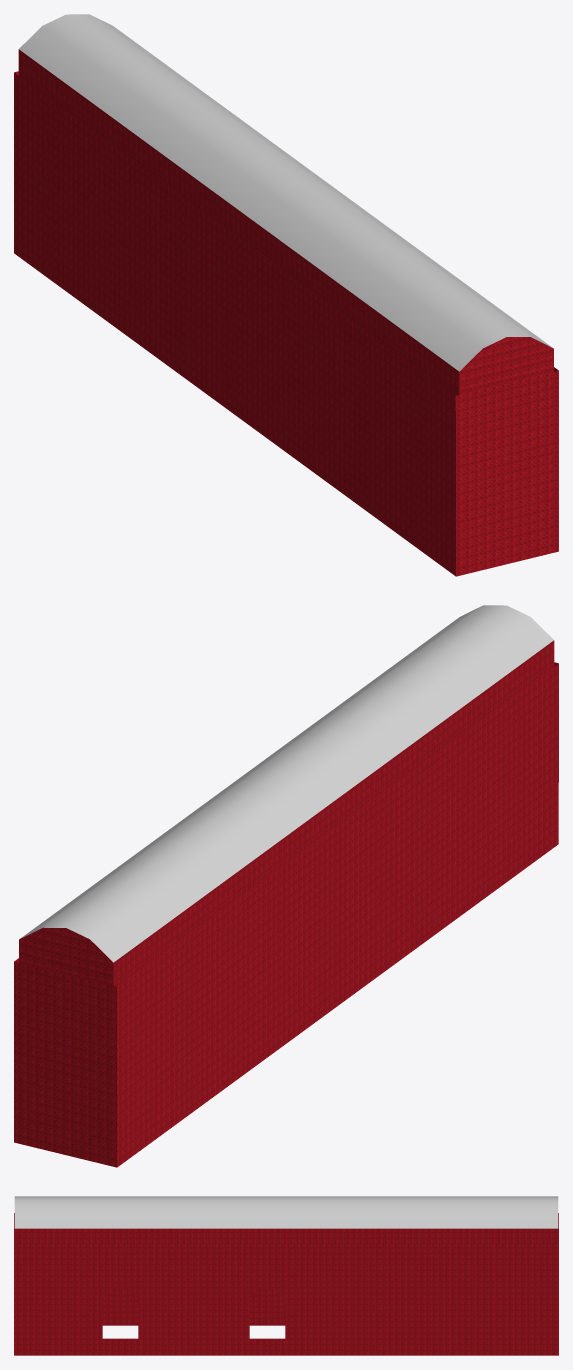
The model's file is hallWay.fbx.
The picture shows the model from 3 angles, top to bottom: view 1: azimuth 30°, elevation 25°; view 2: azimuth 150°, elevation 25°; view 3: azimuth 270°, elevation 25°; orthographic projection. The views are drawn at different scales.
Visible parts, largest first — view 1: hallWayMesh; view 2: hallWayMesh; view 3: hallWayMesh.
Boxes of the visible parts, x1,y1,x2,y2 form: hallWayMesh: [14, 14, 558, 576]; hallWayMesh: [14, 605, 558, 1167]; hallWayMesh: [14, 1196, 558, 1355].
Size of the model in its own units: 604 by 1269 by 4483.
